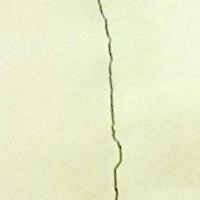crack: (83, 0, 148, 199)
